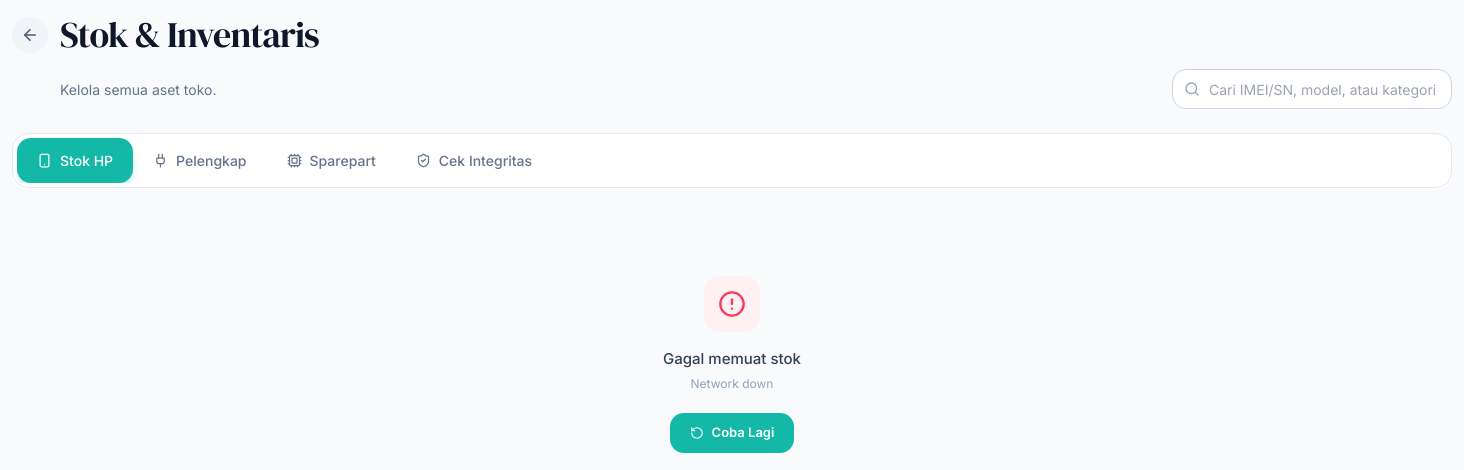
Test case: error state › renders the error alert with a retry button when the fetch rejects, and reloads on retry
The image size is (1464, 470).
Expected: the text "Gagal memuat stok" is shown, x1=663 y1=349 x2=801 y2=368
Click the button "Coba Lagi" at (732, 432), box x1=670 y1=412 x2=794 y2=452
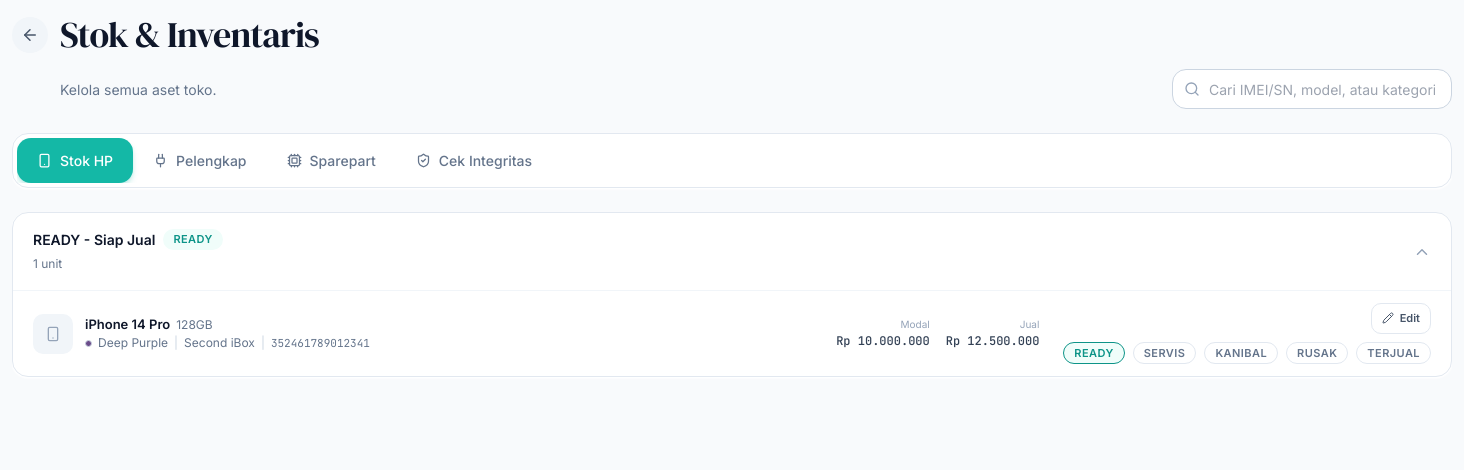
Now the text "iPhone 14 Pro" is shown, box x1=85 y1=315 x2=170 y2=334
